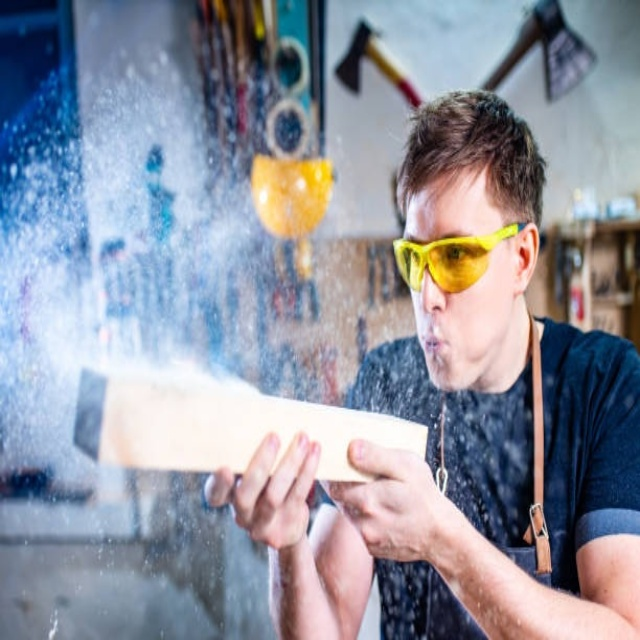Gafas: (390, 218, 522, 293)
Sin_guantes: (325, 436, 456, 569), (206, 426, 324, 553)
Sin_mascara: (418, 325, 460, 391)
